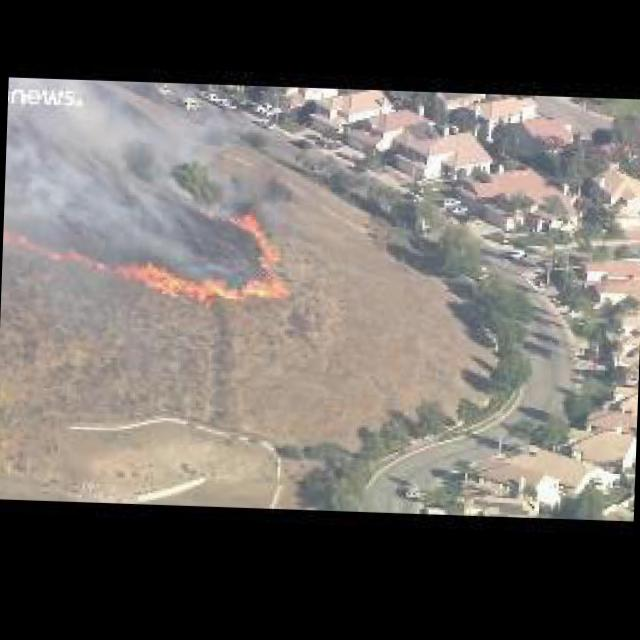fire: (110, 261, 288, 305), (2, 220, 108, 272), (236, 207, 282, 265)
